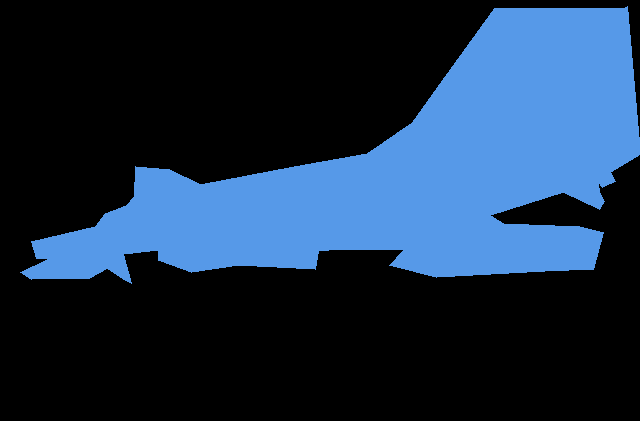Airplane: (20, 6, 640, 284)
